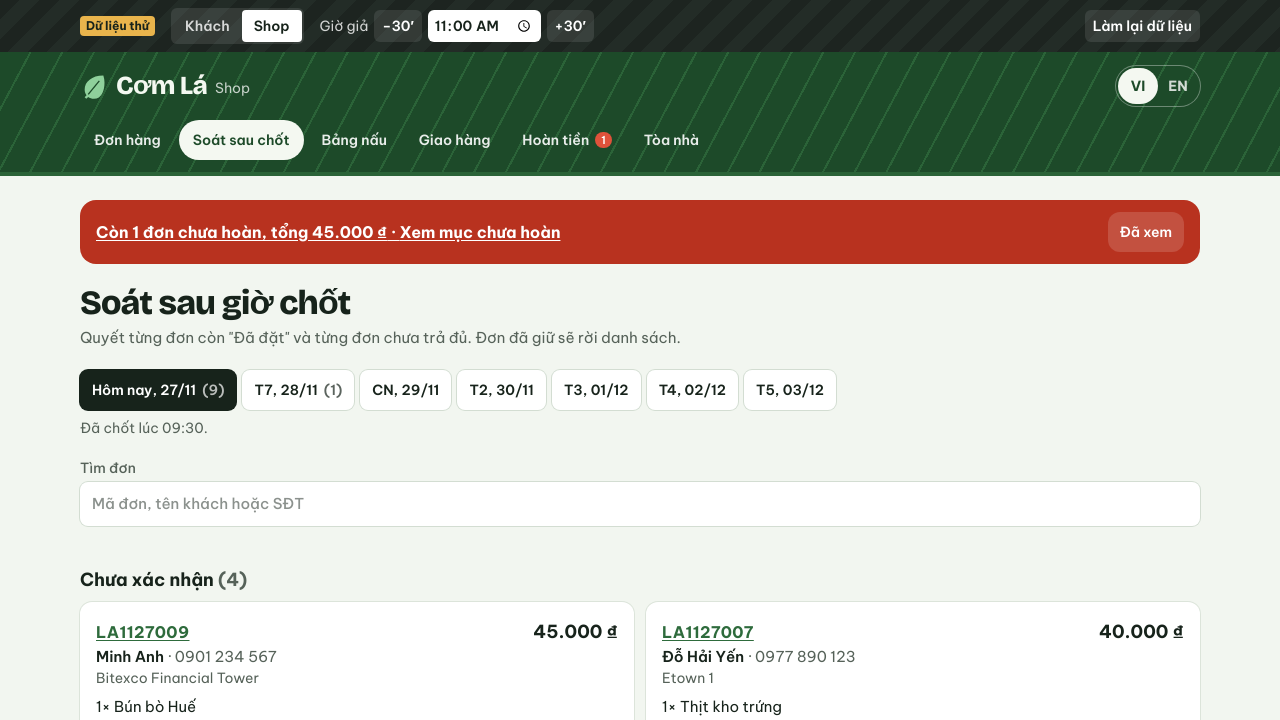
Test: sorting and searching on the shop screens (CN-56) › AC46: Cutoff review: newest first in each group, and the search
The width and height of the screenshot is (1280, 720).
Type "zzz" into the search field labelled "Tìm đơn".
click(640, 504); type("zzz")  # box [80,482,1200,526]
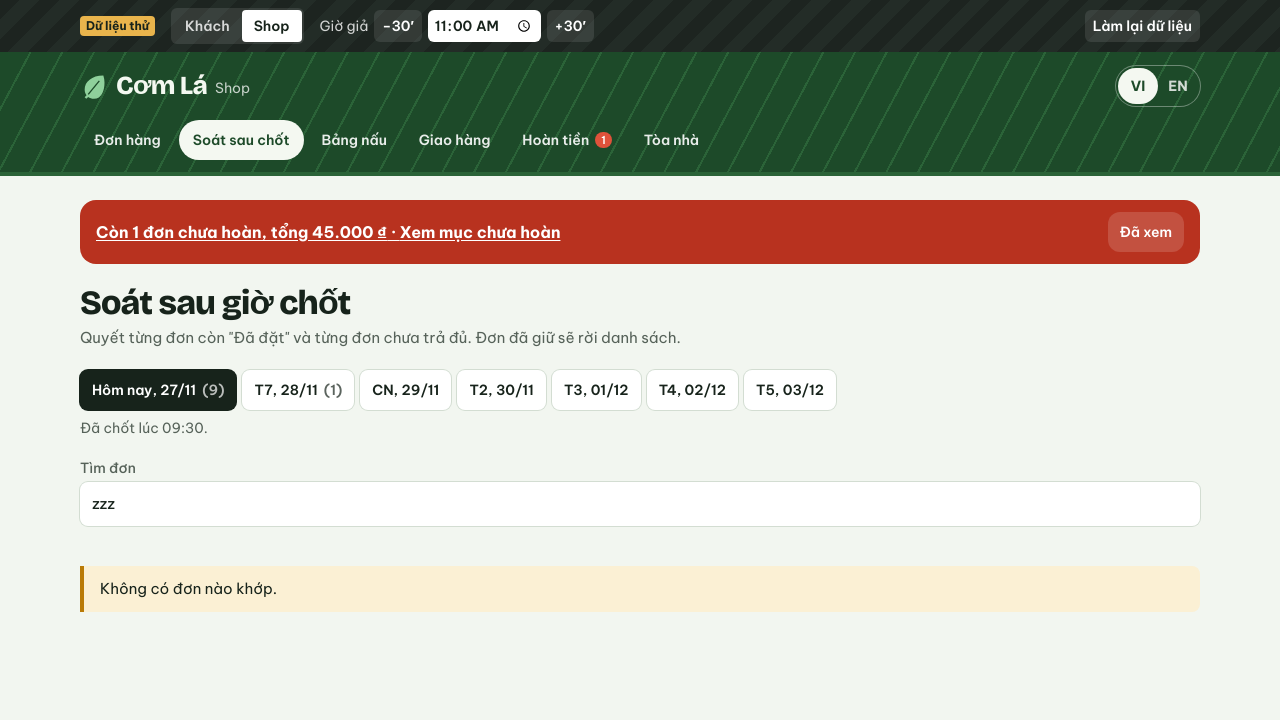
expect the text "Không có đơn nào khớp." is shown: met, box [80,566,1200,612]
